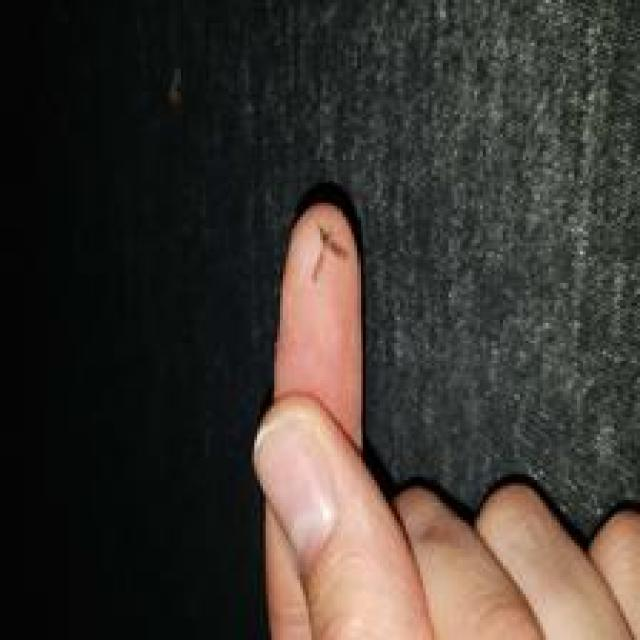Culex: (308, 223, 348, 283)
